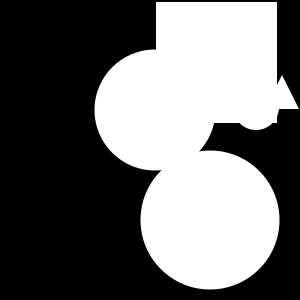circle: (156, 2, 277, 123)
rectangle: (140, 150, 280, 290), (95, 49, 216, 170), (233, 84, 279, 130)
triangle: (265, 75, 299, 109)
